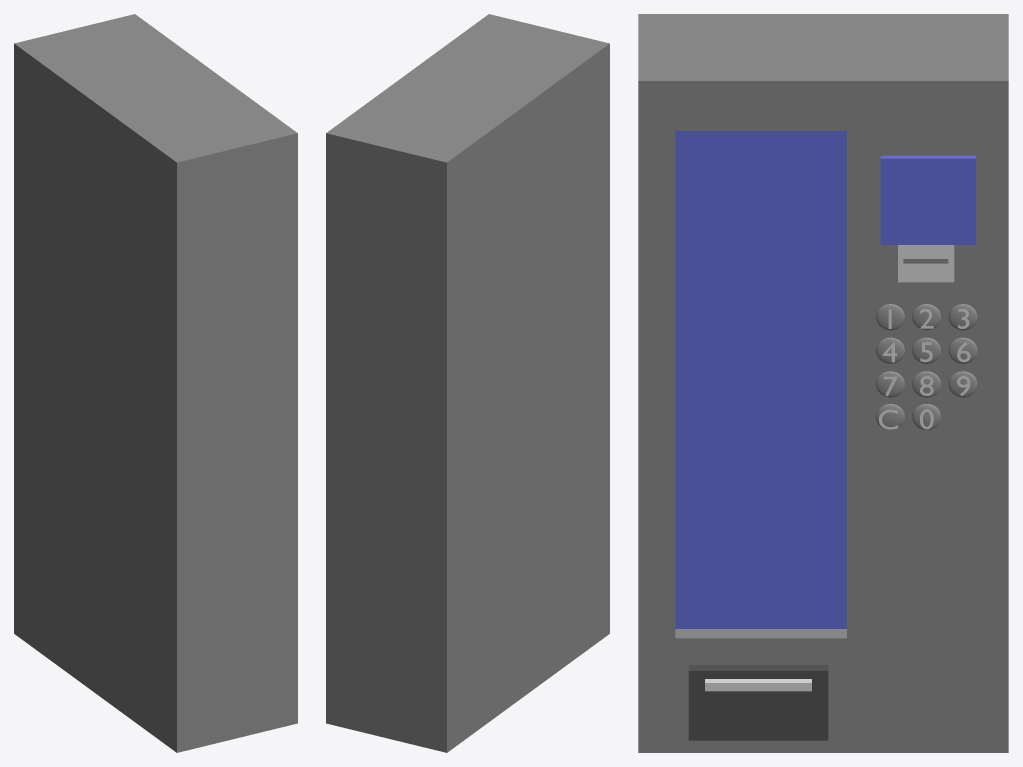
Rendered from Vending machine.fbx.
3 renders of one model, left to right at view 1: azimuth 30°, elevation 25°; view 2: azimuth 150°, elevation 25°; view 3: azimuth 270°, elevation 25°, orthographic. The views are drawn at different scales.
Visible parts, largest first — view 1: Cube; view 2: Cube; view 3: Cube, Plane, Cube.003, Cube.001, Cube.002, Cube.004.
Boxes of the visible parts, <box> form: Cube: <box>14,14,297,752</box>; Cube: <box>326,14,609,752</box>; Cube: <box>638,14,1008,752</box>; Plane: <box>675,131,846,628</box>; Cube.003: <box>688,665,828,740</box>; Cube.001: <box>880,155,975,244</box>; Cube.002: <box>898,245,954,282</box>; Cube.004: <box>705,679,811,691</box>.
Size of the model in its own units: 295 by 1200 by 600.
